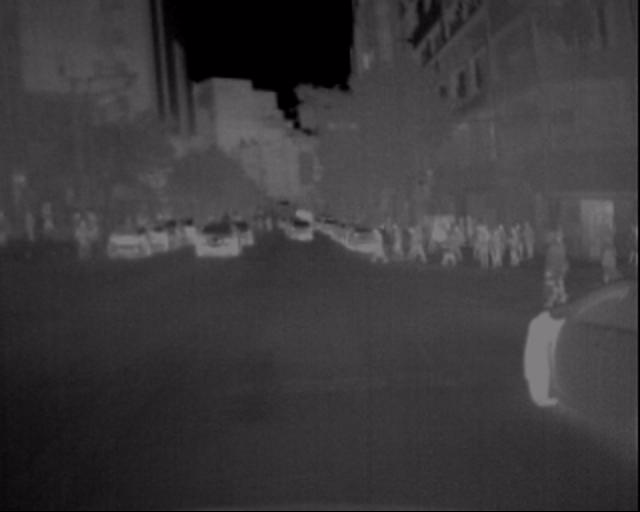person: (403, 215, 538, 276), (347, 206, 429, 272), (533, 226, 566, 306)
